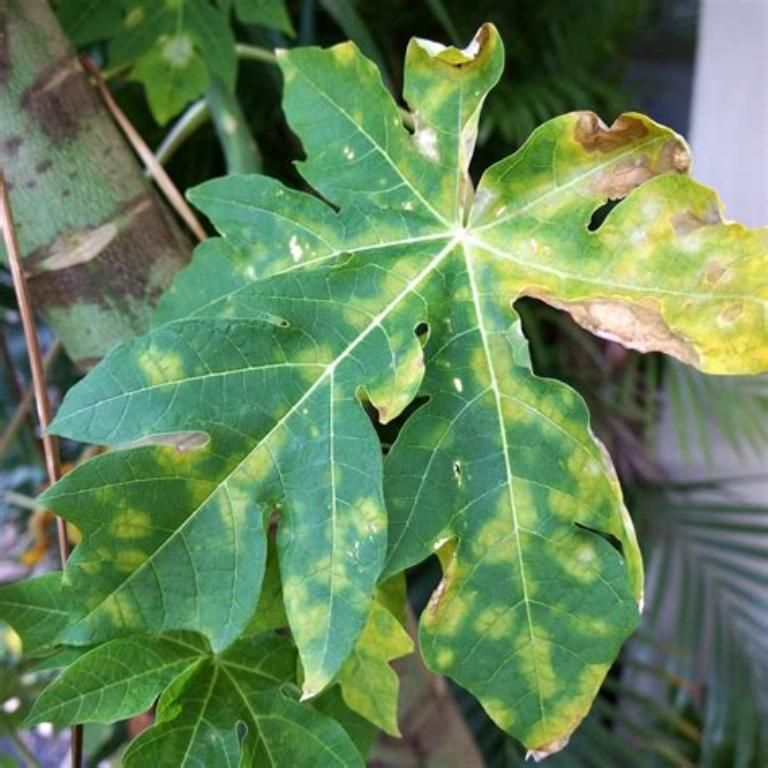blight: (545, 266, 707, 376), (570, 113, 682, 217), (424, 24, 494, 72)
